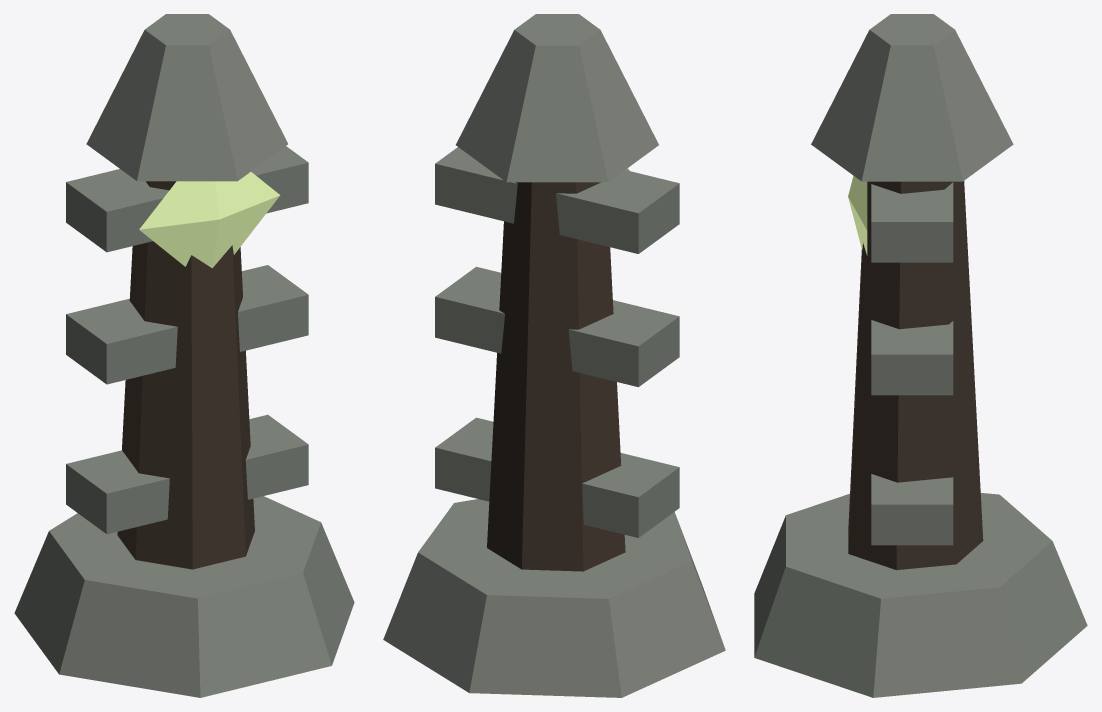
Rendered from totem.glb.
3 renders of one model, left to right at view 1: azimuth 30°, elevation 25°; view 2: azimuth 150°, elevation 25°; view 3: azimuth 270°, elevation 25°, orthographic.
Visible parts, largest first — view 1: totem; view 2: totem; view 3: totem.
Boxes of the visible parts, x1,y1,x2,y2 form: totem: (14,14,354,697); totem: (383,14,725,697); totem: (754,14,1087,697).
Size of the model in its own units: 1.75 by 3.38 by 1.71.
